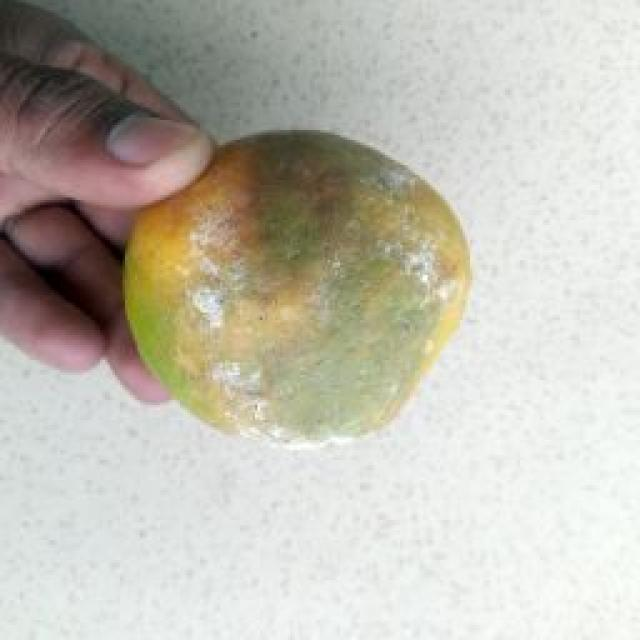Bad_Orange: (124, 131, 471, 441)
